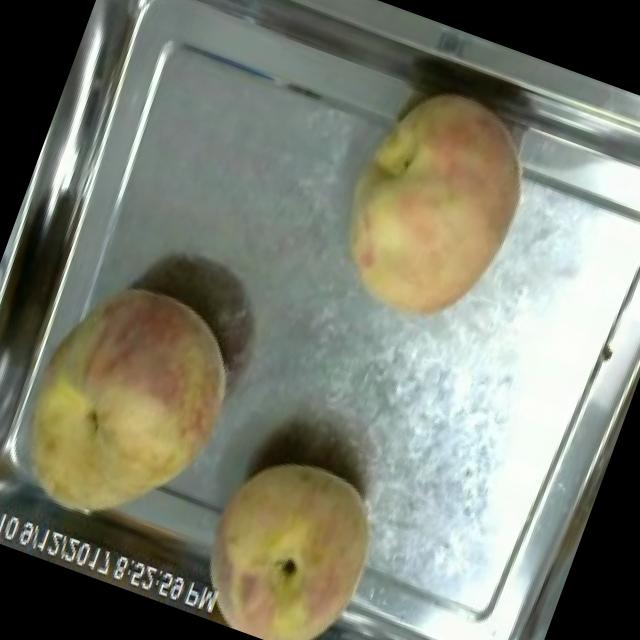Fruit: (0, 247, 264, 561), (305, 58, 563, 354), (174, 428, 405, 640)
